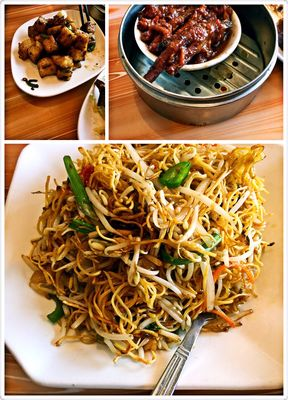curry: (159, 161, 192, 188)
sushi: (116, 4, 281, 127)
